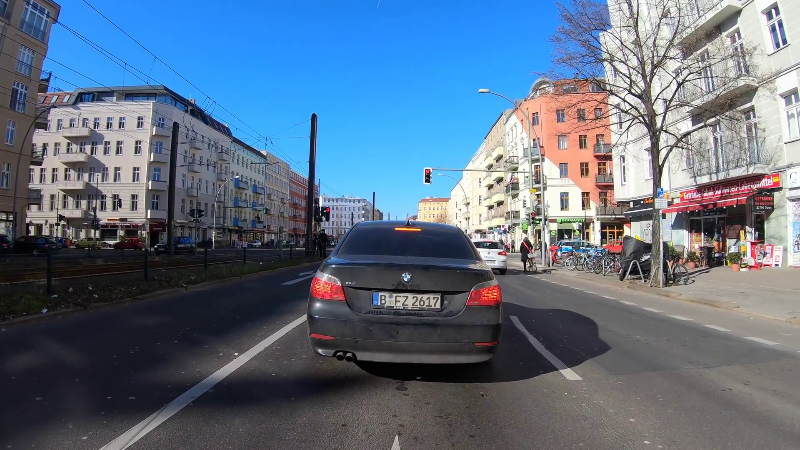Plate: (370, 289, 442, 311)
